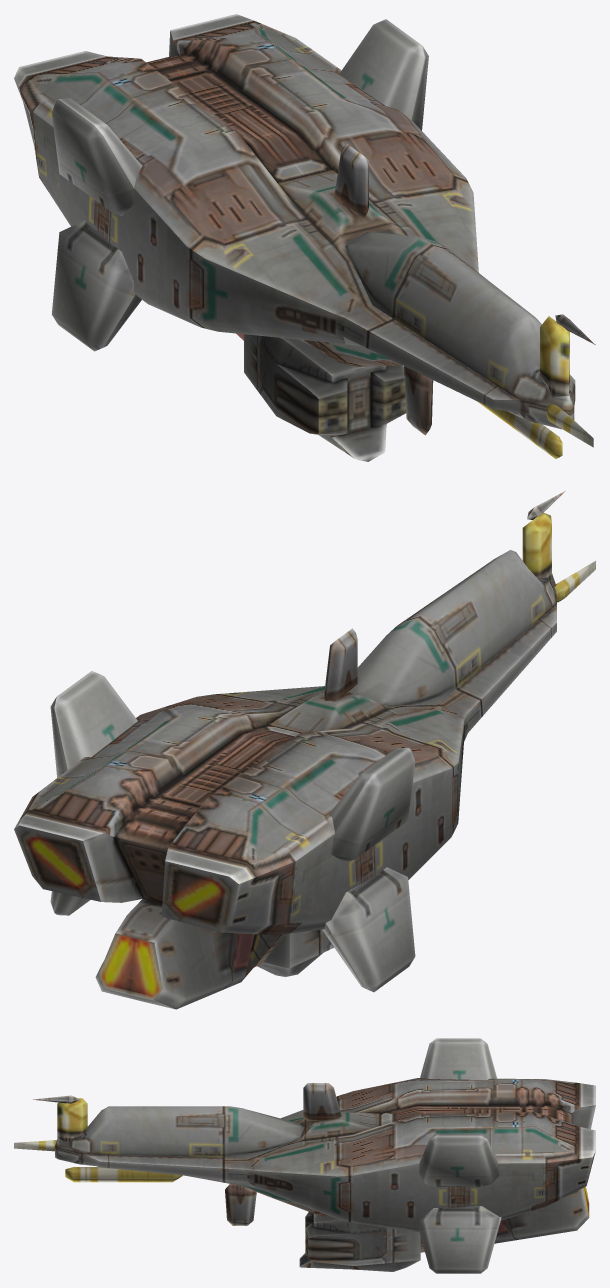
Rendered from tan_sf_intc_01_t3.glb.
3 views of the same model, one above another, from view 1: azimuth 30°, elevation 25°; view 2: azimuth 150°, elevation 25°; view 3: azimuth 270°, elevation 25° (orthographic). The views are drawn at different scales.
Visible parts, largest first — view 1: tan_interceptor_01_LOD0; view 2: tan_interceptor_01_LOD0; view 3: tan_interceptor_01_LOD0.
Part boxes in pixels (x1,y1,x2,y2): tan_interceptor_01_LOD0: [14, 14, 595, 461]; tan_interceptor_01_LOD0: [14, 491, 595, 1009]; tan_interceptor_01_LOD0: [14, 1038, 595, 1273].
Size of what is drawn, in the model's own units: 0.2073 by 0.1802 by 0.5025.
Materials: 1 (1 with a texture image).
